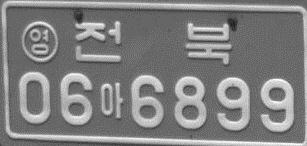0: (17, 70, 52, 125)
6: (130, 74, 164, 129), (59, 72, 93, 126)
8: (173, 74, 206, 130)
9: (259, 77, 295, 133), (216, 76, 251, 131)
아: (99, 80, 124, 120)
영: (21, 19, 58, 65)
전북_D: (74, 20, 232, 65)
